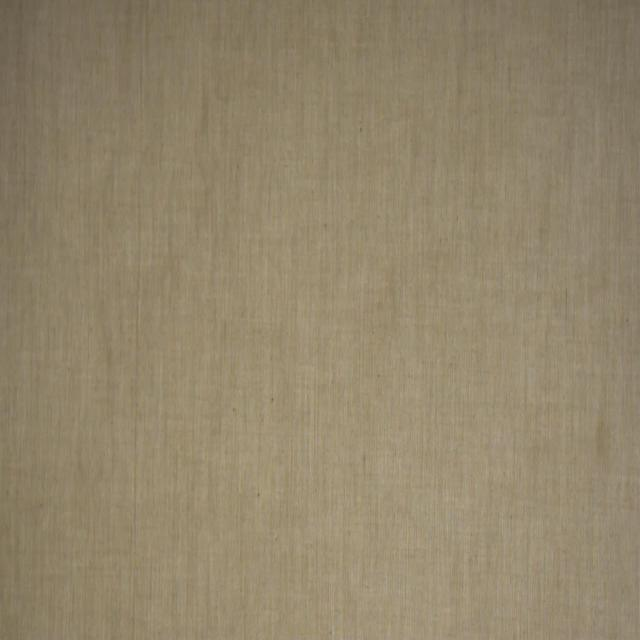dirty: (594, 413, 608, 462)
